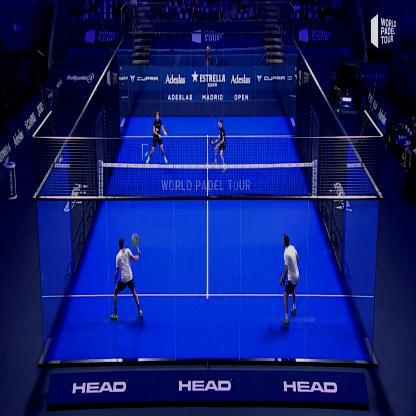ball: (142, 144, 149, 161)
